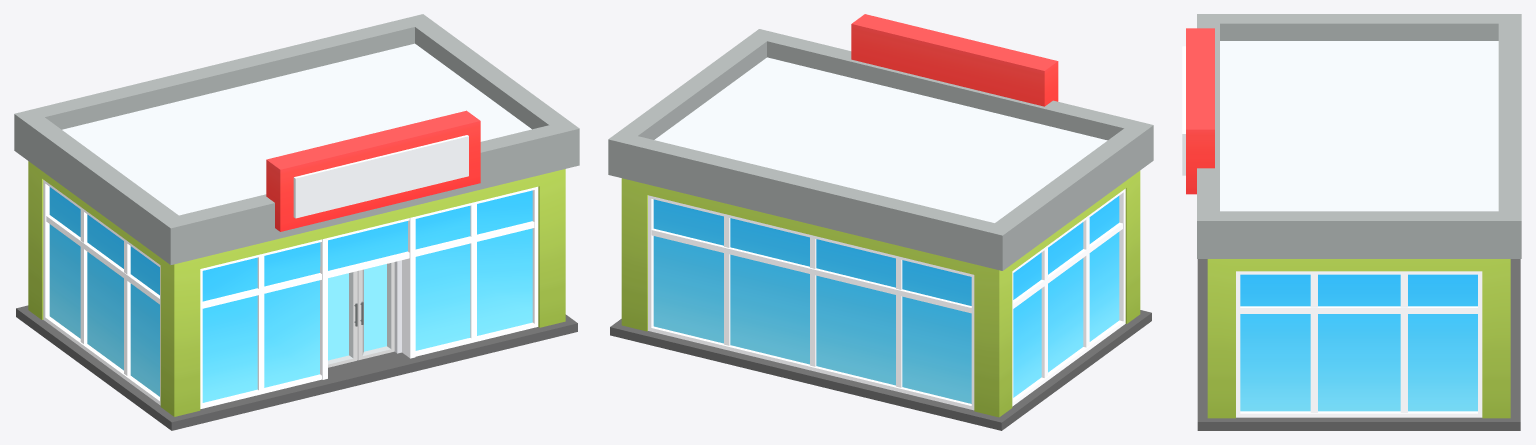
File: city2-building-supermarket-07.glb
The picture shows the model from 3 angles, left to right: view 1: azimuth 30°, elevation 25°; view 2: azimuth 150°, elevation 25°; view 3: azimuth 270°, elevation 25°; orthographic projection. The views are drawn at different scales.
Parts seen in each view (by area): view 1: Building_Supermarket_07; view 2: Building_Supermarket_07; view 3: Building_Supermarket_07.
Part boxes in pixels (x1=…): Building_Supermarket_07: x1=14, y1=14, x2=579, y2=430; Building_Supermarket_07: x1=608, y1=14, x2=1153, y2=430; Building_Supermarket_07: x1=1182, y1=14, x2=1521, y2=430.
Size of the model in its own units: 9.93 by 5.57 by 6.88.
Materials: 1 (1 with a texture image).
